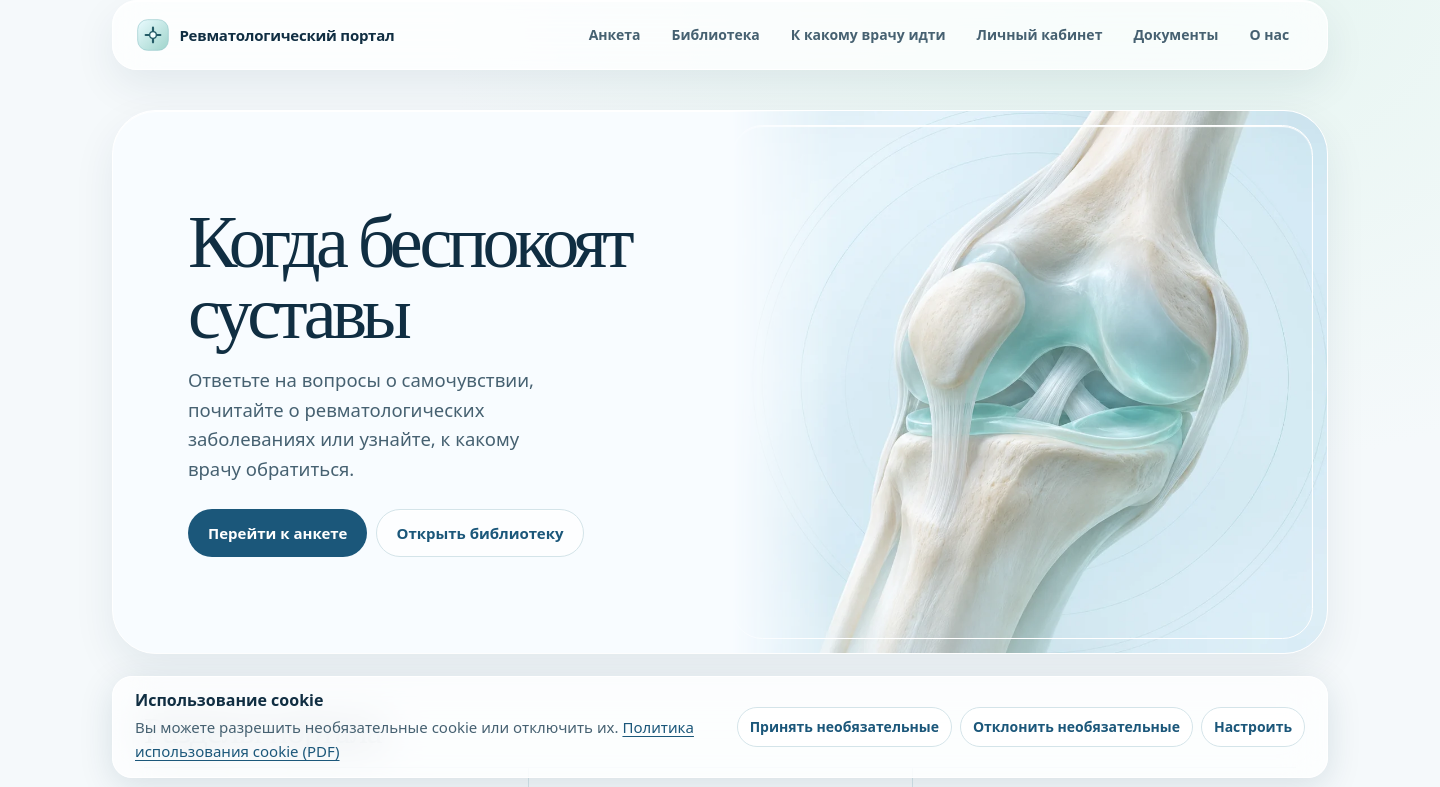
Test case: Cookie consent › persists the choice made with "cookies.reject"
Expected: the element "Использование cookie" is shown, [112,676,1328,778]
Click the button "Отклонить необязательные" at coordinates (1076, 727), box [960,707,1193,747]
(page scrolled)
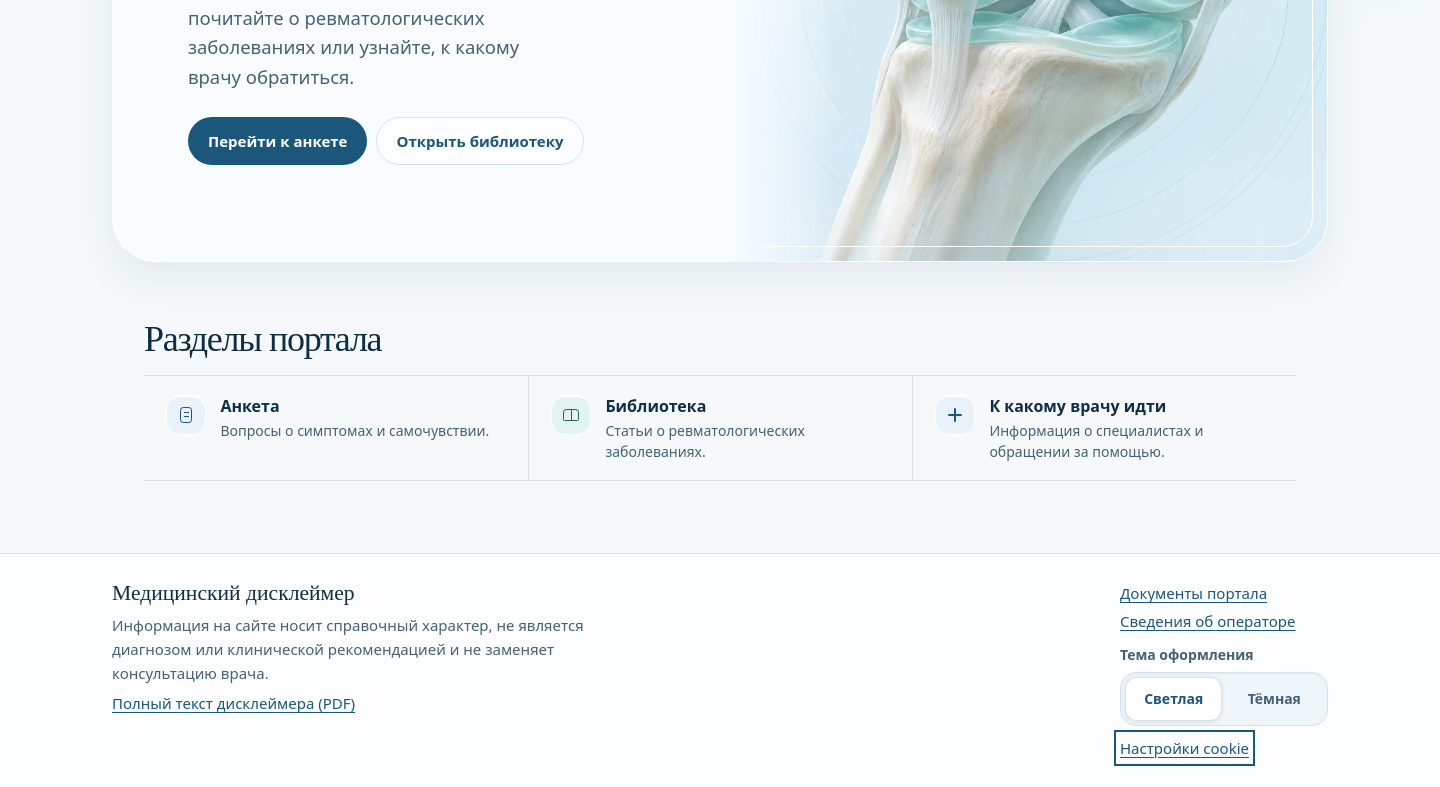
Expected: the heading "Использование cookie" is gone
